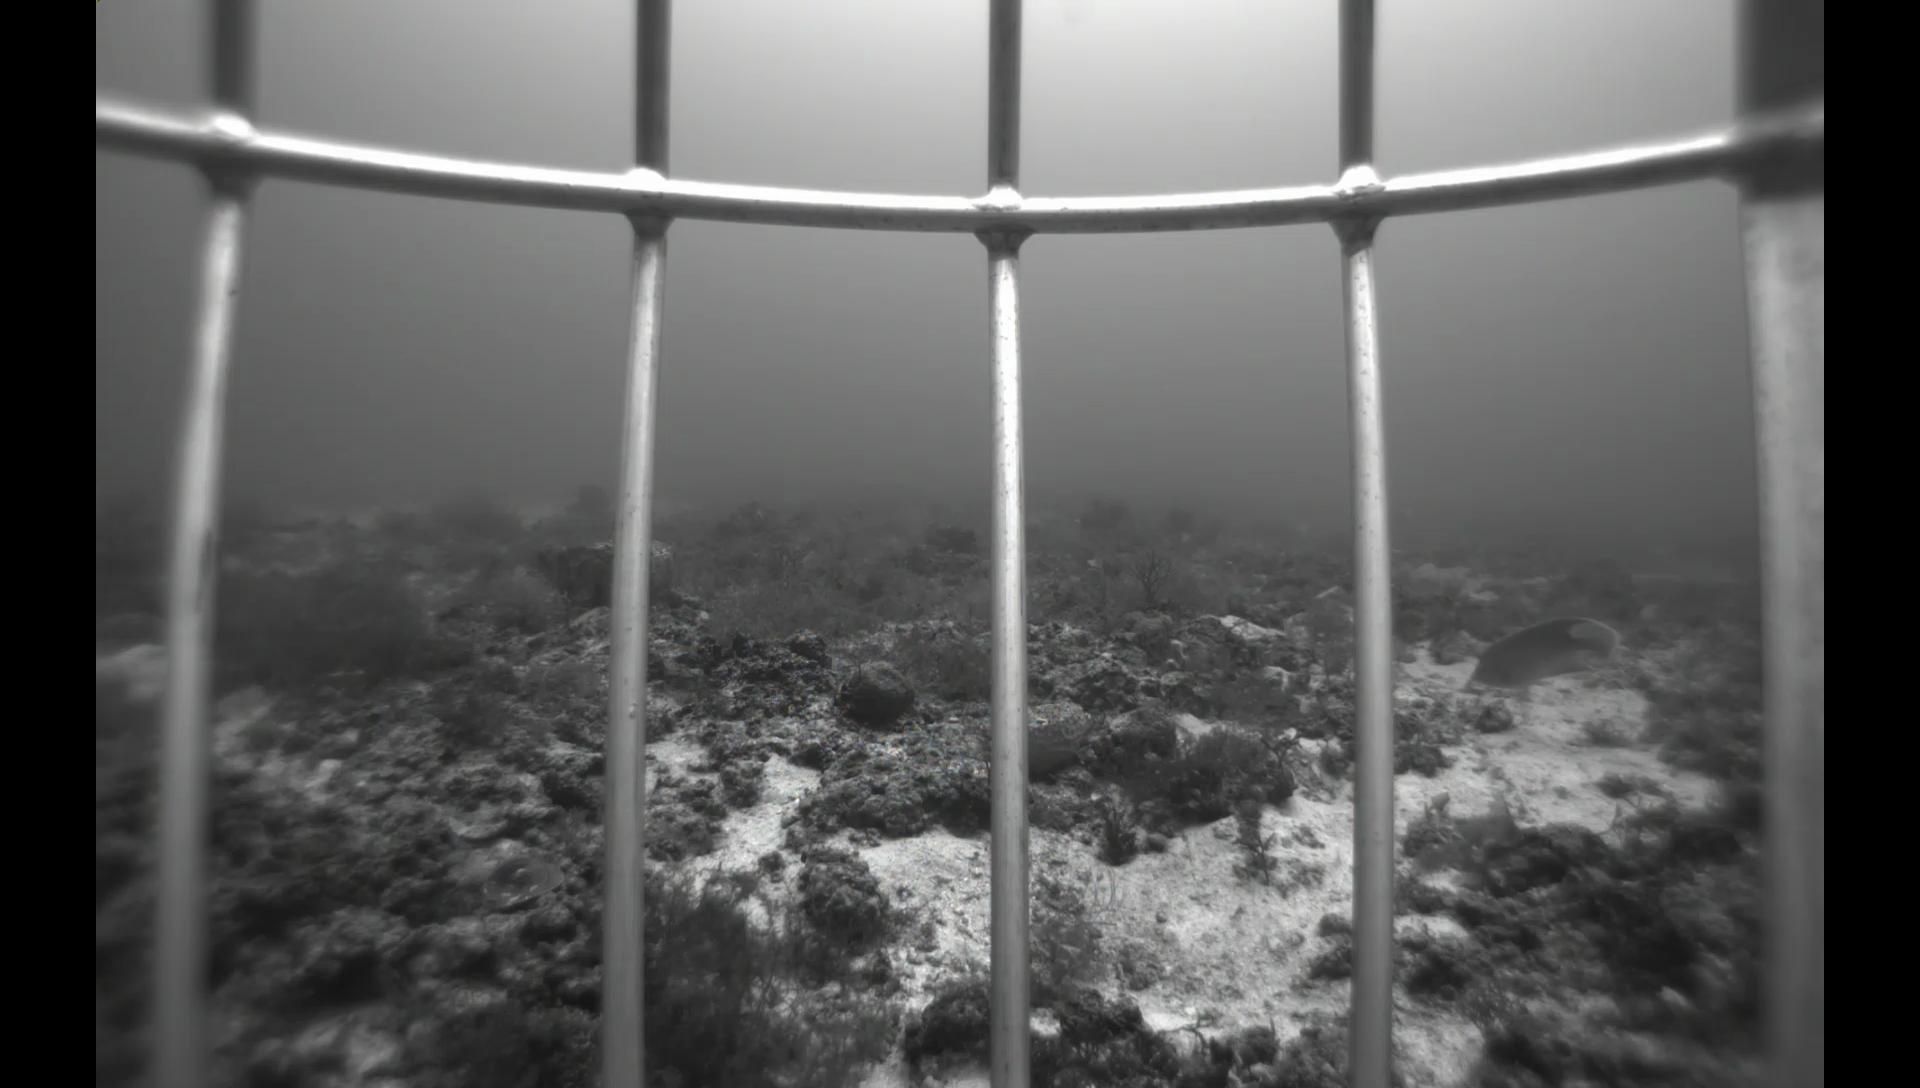HOLACANTHUSBERMUDENSIS-170290102: (1458, 601, 1643, 698)
SERRANUSANNULARIS-170024201: (363, 953, 450, 1047)
